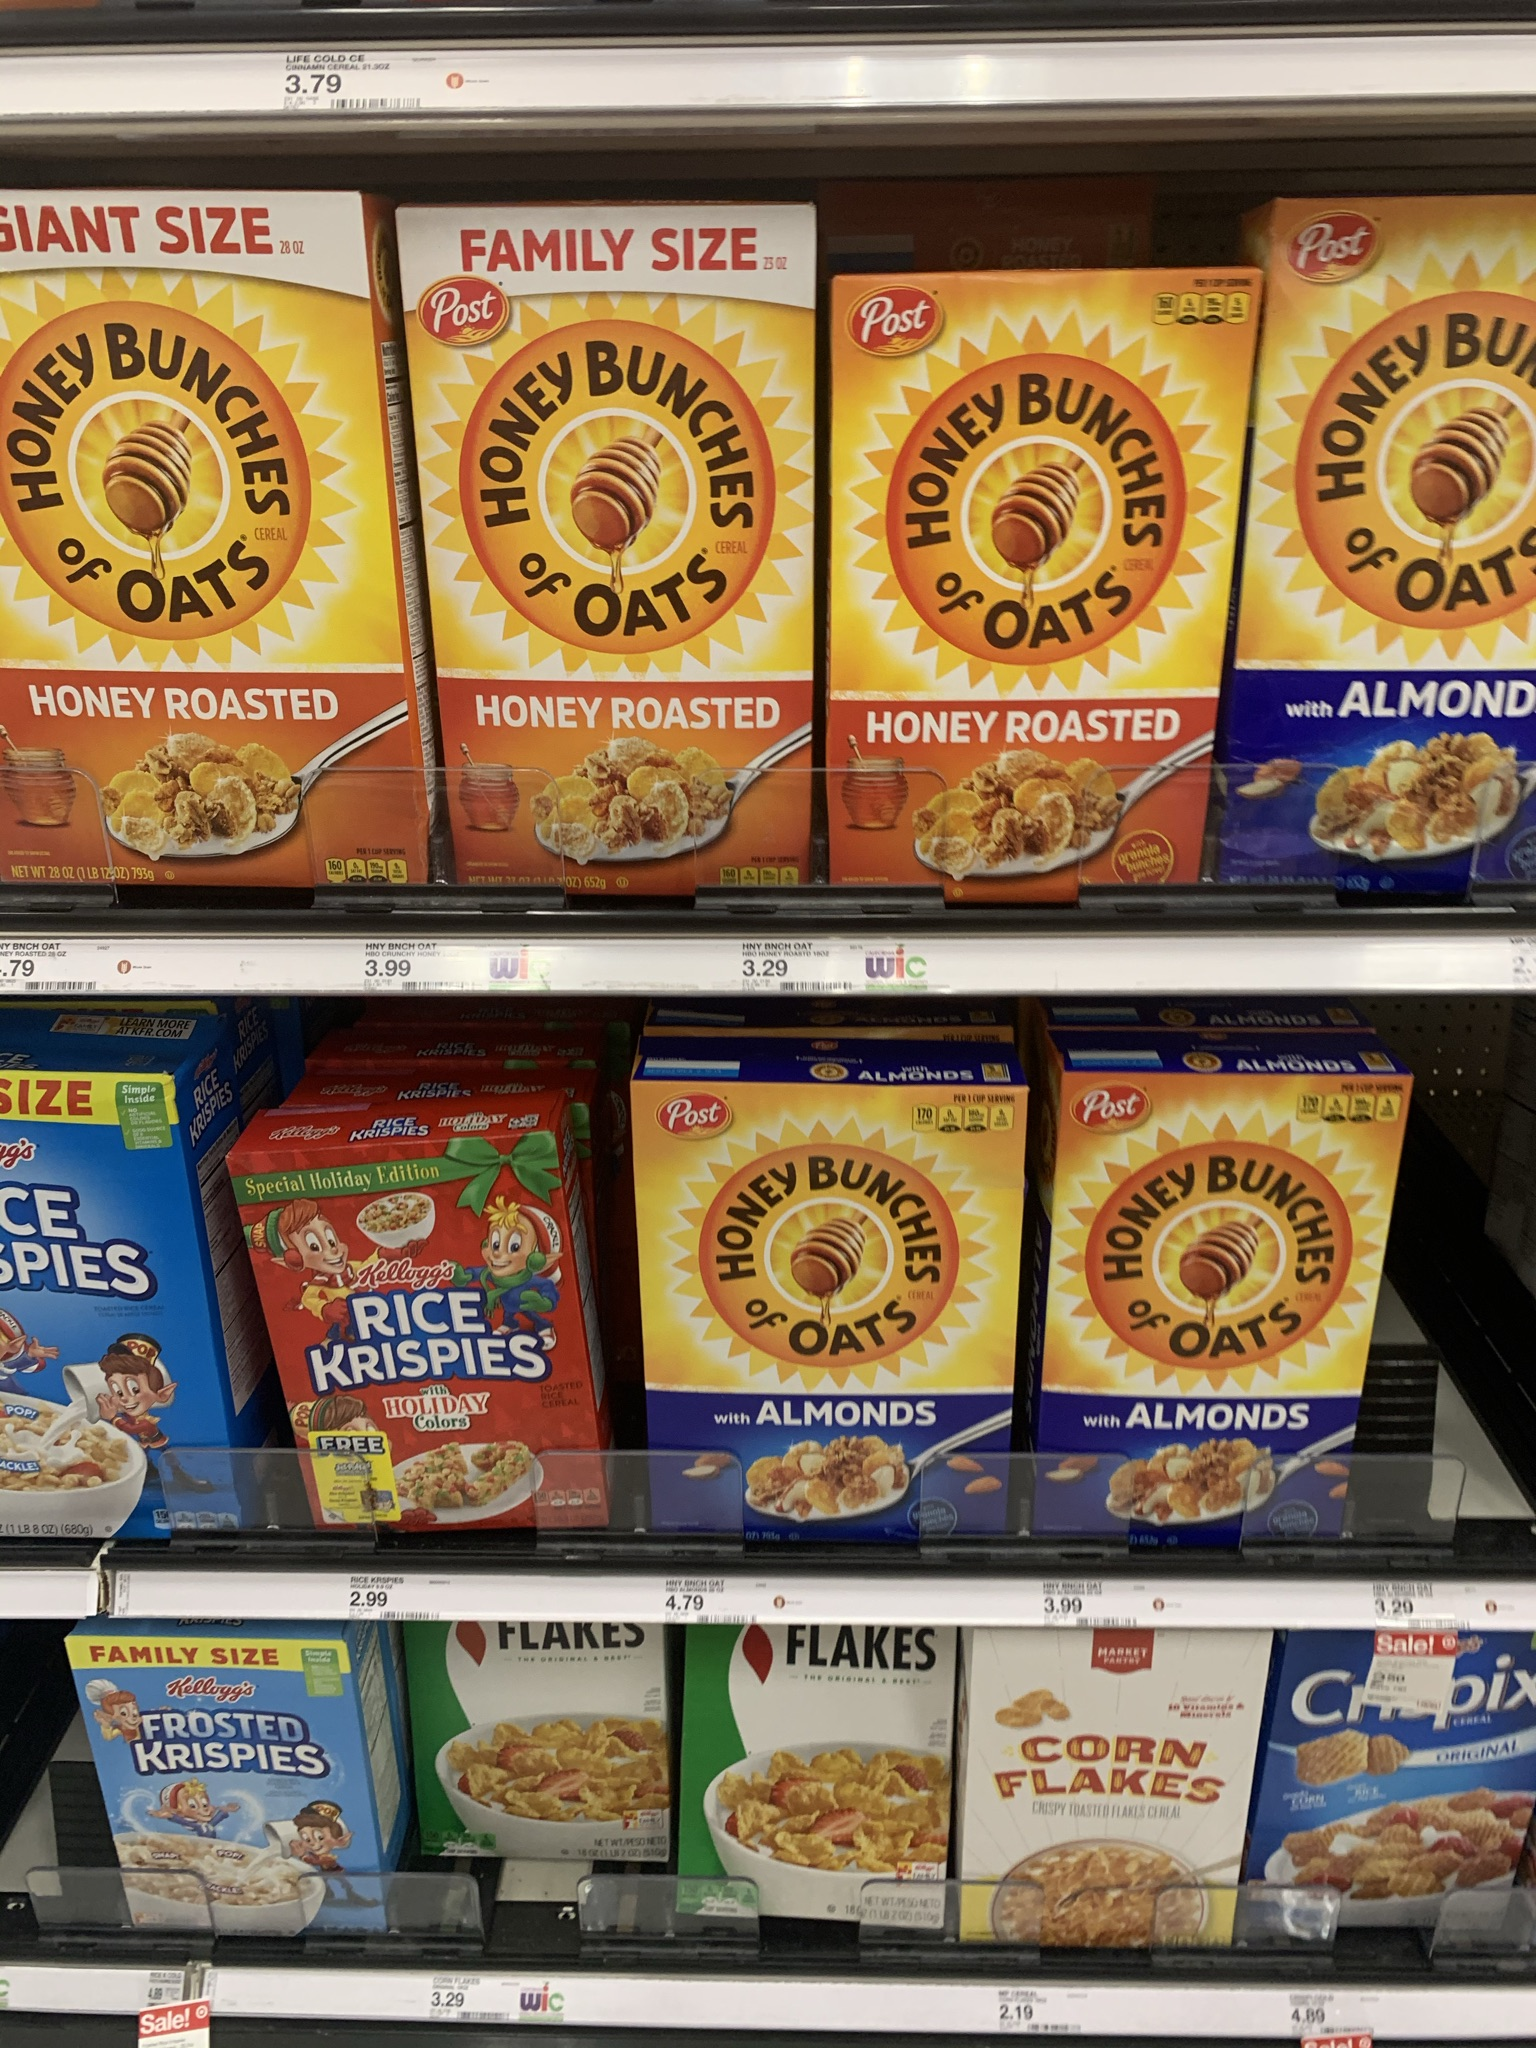box: (423, 232, 799, 885), (844, 295, 1181, 887), (1275, 223, 1536, 877), (629, 1097, 999, 1435), (1062, 1079, 1349, 1451), (271, 1169, 586, 1443), (687, 1648, 945, 1884), (2, 1092, 174, 1442), (986, 1642, 1229, 1888), (103, 1651, 361, 1864), (408, 1642, 658, 1858)
